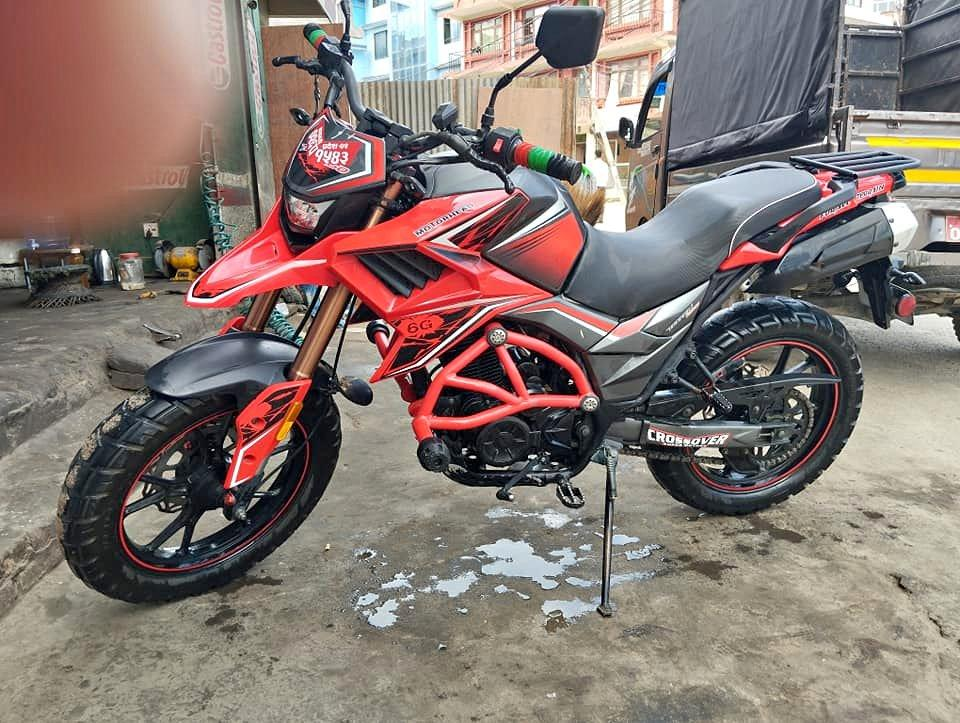bike: (42, 0, 924, 603)
